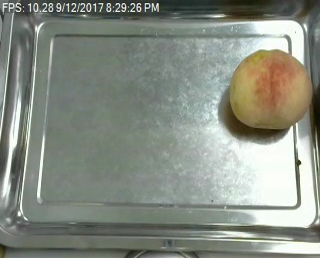Peach: (229, 48, 313, 131)
